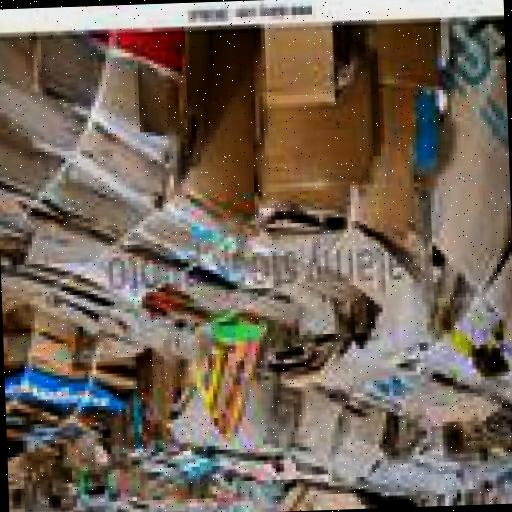cardboard: (0, 23, 512, 512), (0, 26, 327, 360), (256, 22, 452, 252), (140, 348, 384, 496), (408, 23, 512, 330), (271, 328, 502, 444), (278, 226, 436, 395), (0, 40, 127, 244), (6, 300, 142, 461), (252, 28, 378, 196), (107, 407, 282, 512), (176, 32, 270, 226), (433, 295, 512, 418), (10, 437, 117, 512), (386, 411, 512, 467), (366, 458, 512, 506), (260, 29, 342, 112), (279, 483, 384, 510)
